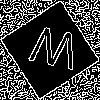W: (25, 25, 82, 80)
